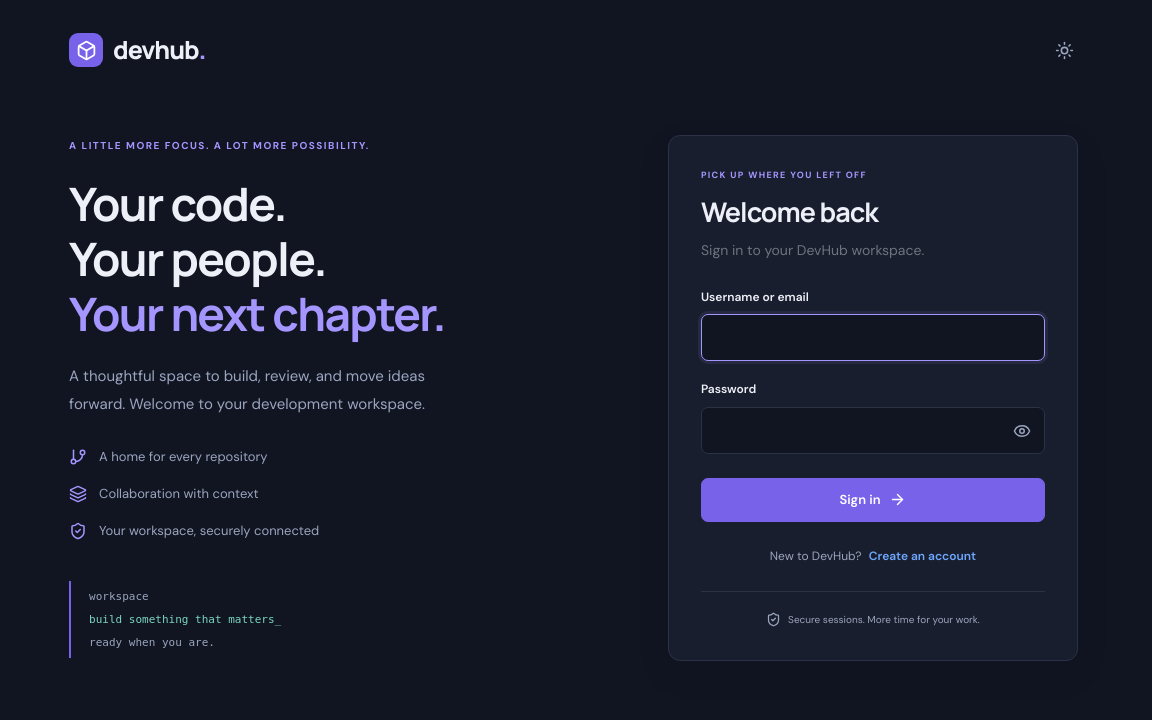
it: authentication UI › logs in using identifier and opens protected dashboard
Expected: the heading "Welcome back" is shown, [701,193,878,230]
Type "postmanA" into the field labelled "Username or email" at (873, 338), box [701,314,1045,361]
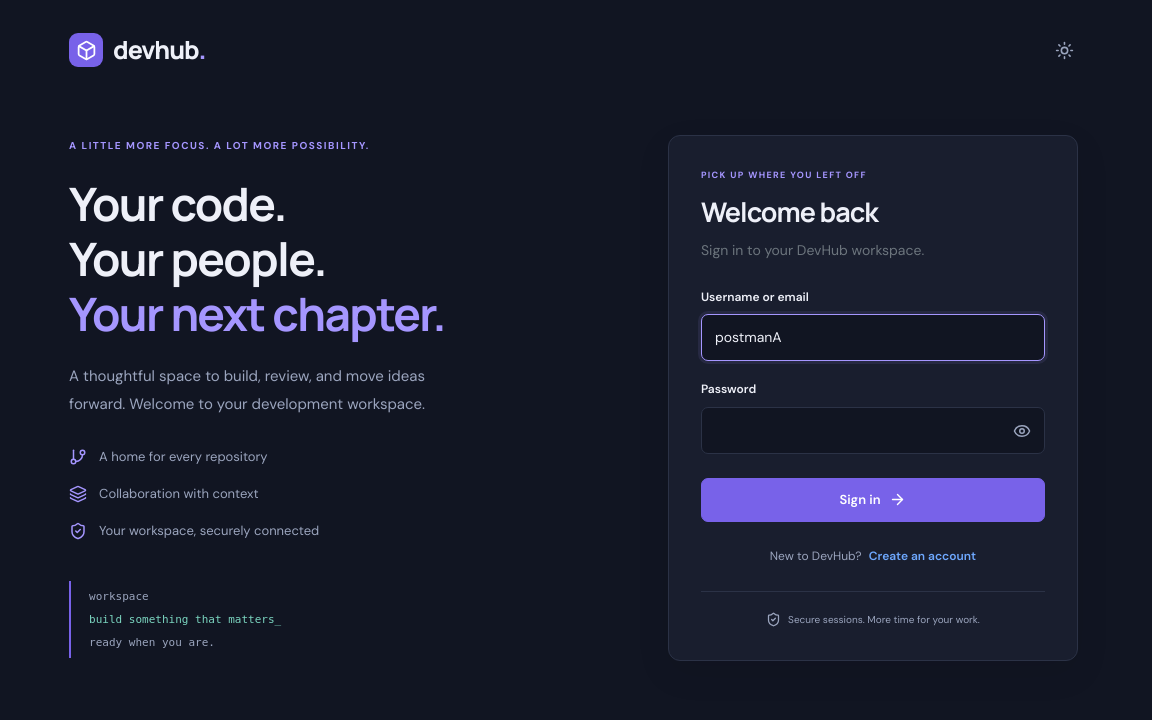
Type "test-password" into the password field labelled "Password" at (873, 430), box [701,406,1045,454]
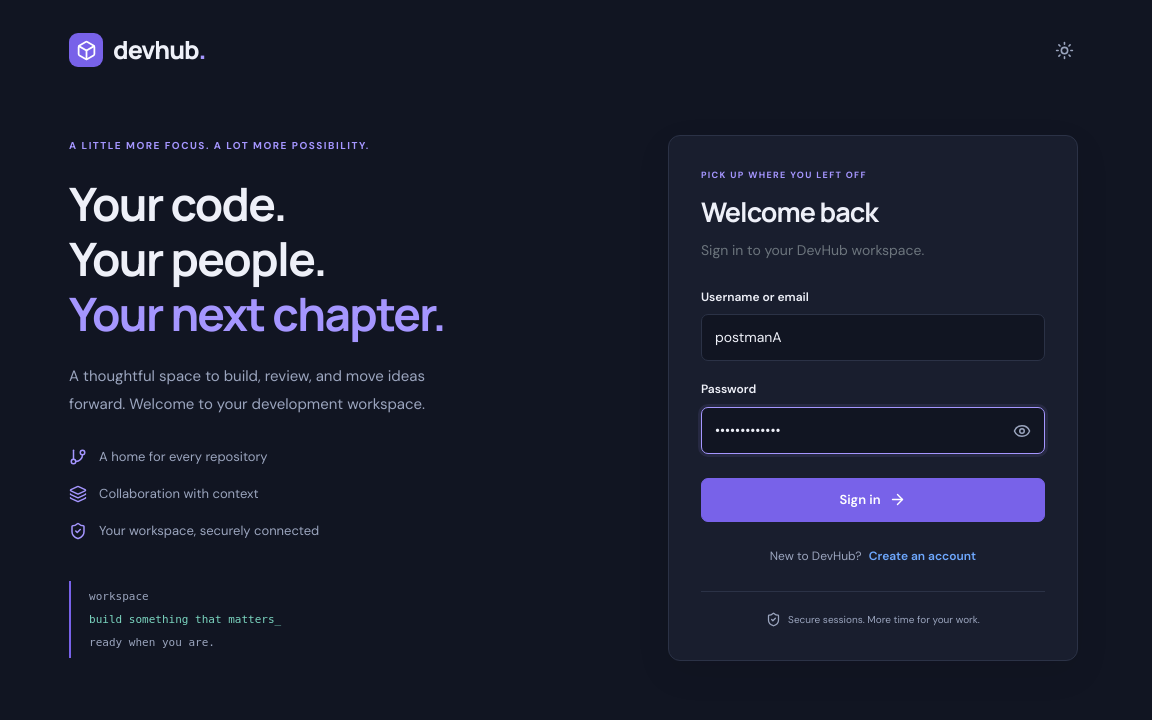
Click the button "Sign in" at (873, 500), box [701,478,1045,522]
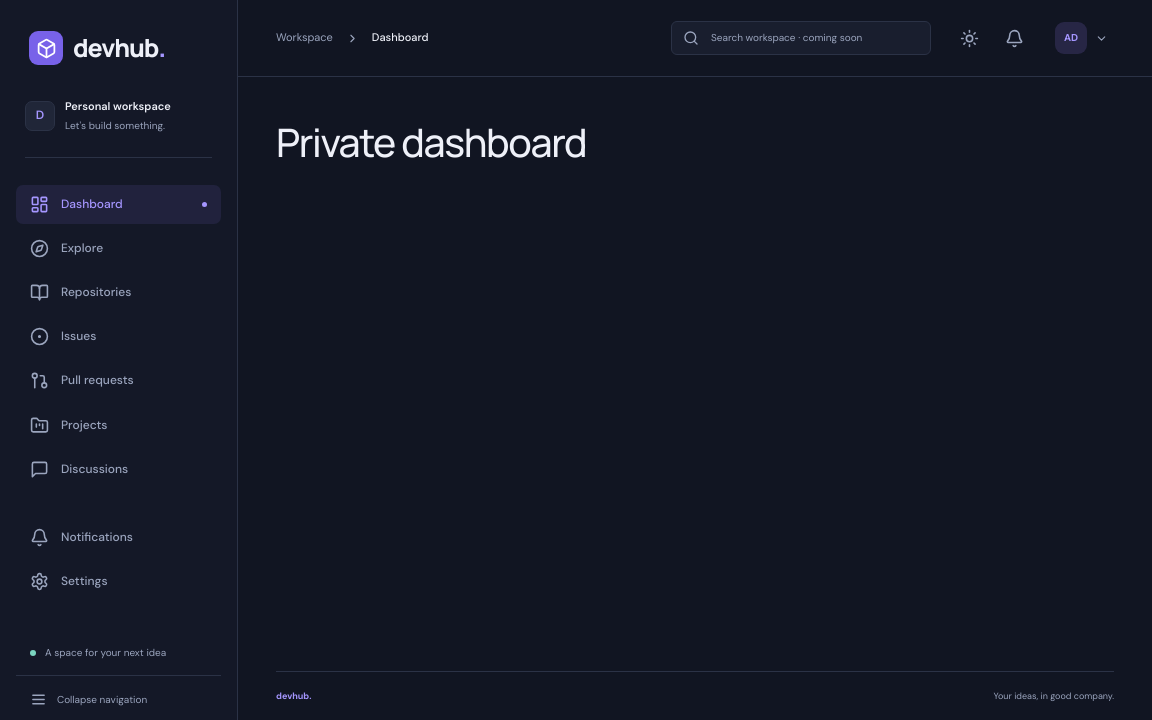
Result: the heading "Private dashboard" is shown at [276,115,586,169]
